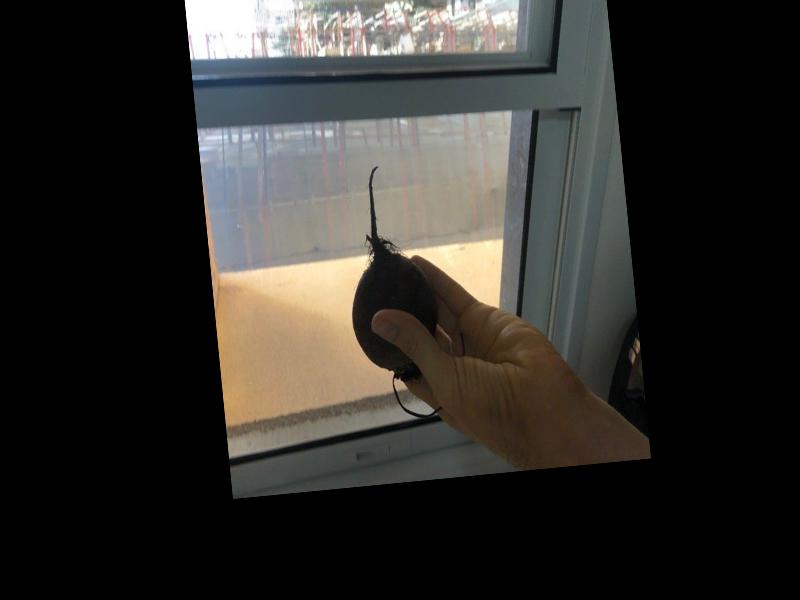Beet: (337, 158, 472, 423)
